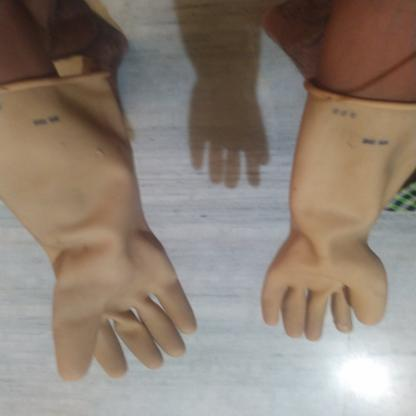gloved_hand: (0, 70, 201, 385), (259, 80, 416, 346)
